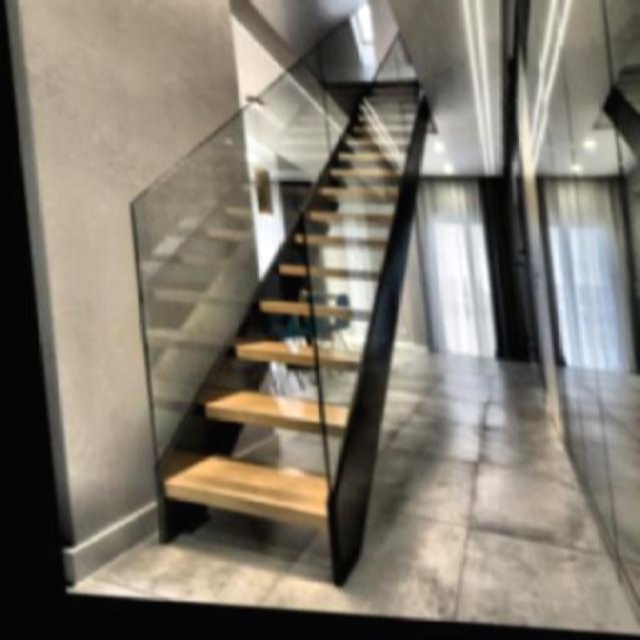stair: (114, 88, 446, 528)
